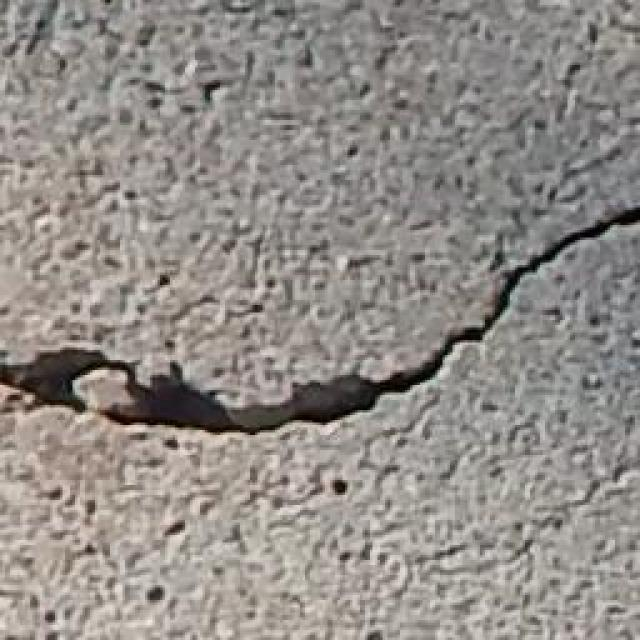concrete-crack: (0, 202, 639, 441)
